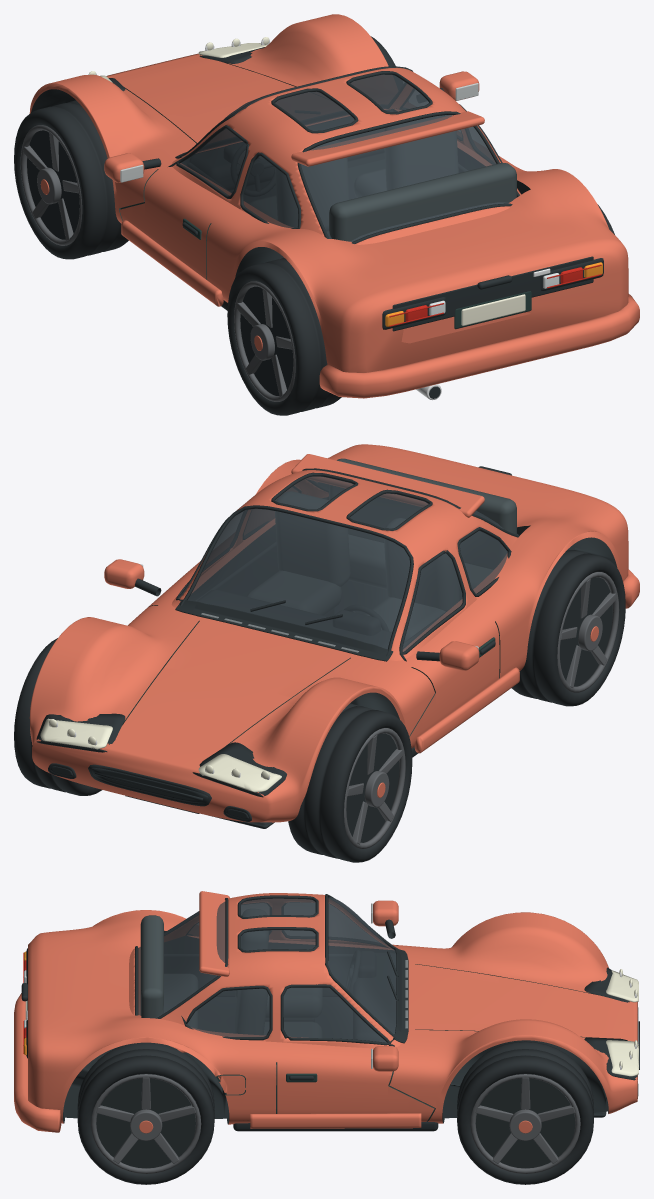
Rendered from arashi.fbx.
3 renders of one model, top to bottom at view 1: azimuth 30°, elevation 25°; view 2: azimuth 150°, elevation 25°; view 3: azimuth 270°, elevation 25°, orthographic. The views are drawn at different scales.
Visible parts, largest first — view 1: Body, Wheel_FL_Mesh, Wheel_RL_Mesh; view 2: Body, Wheel_FL_Mesh, Wheel_RL_Mesh, Wheel_FR_Mesh; view 3: Body, Wheel_FR_Mesh, Wheel_RR_Mesh.
Part boxes in pixels (x1,y1,x2,y2): Body: [29, 14, 639, 400]; Wheel_FL_Mesh: [14, 100, 128, 259]; Wheel_RL_Mesh: [227, 258, 341, 415]; Body: [29, 444, 639, 828]; Wheel_FL_Mesh: [288, 703, 412, 862]; Wheel_RL_Mesh: [511, 548, 625, 706]; Wheel_FR_Mesh: [14, 638, 101, 795]; Body: [14, 891, 639, 1132]; Wheel_FR_Mesh: [457, 1041, 593, 1184]; Wheel_RR_Mesh: [77, 1042, 214, 1184].
Bounding box in the file's own units: 241 × 138 × 403.
